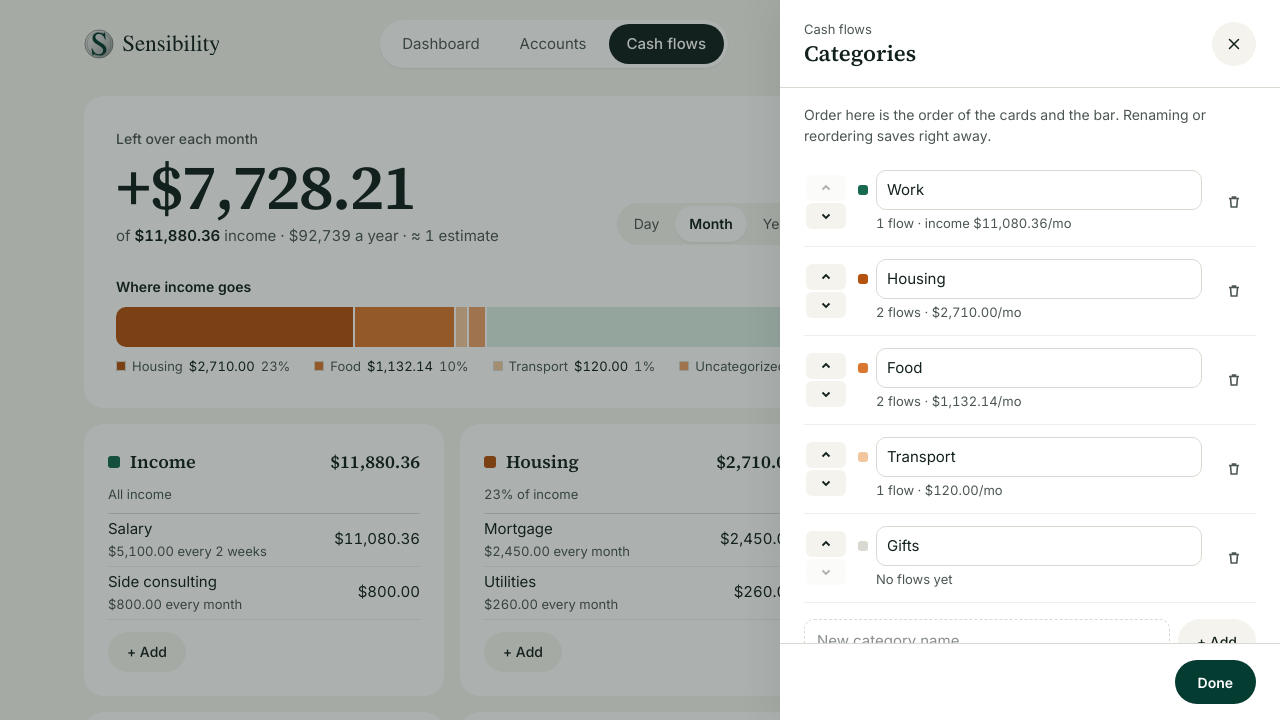
the categories drawer › asks before deleting, in the row
The image size is (1280, 720).
Expected: the dialog "Categories" is shown, top-left (780, 0), bottom-right (1279, 719)
Click the button named "Delete Food".
click(1234, 380)  # box top-left (1212, 358), bottom-right (1256, 402)
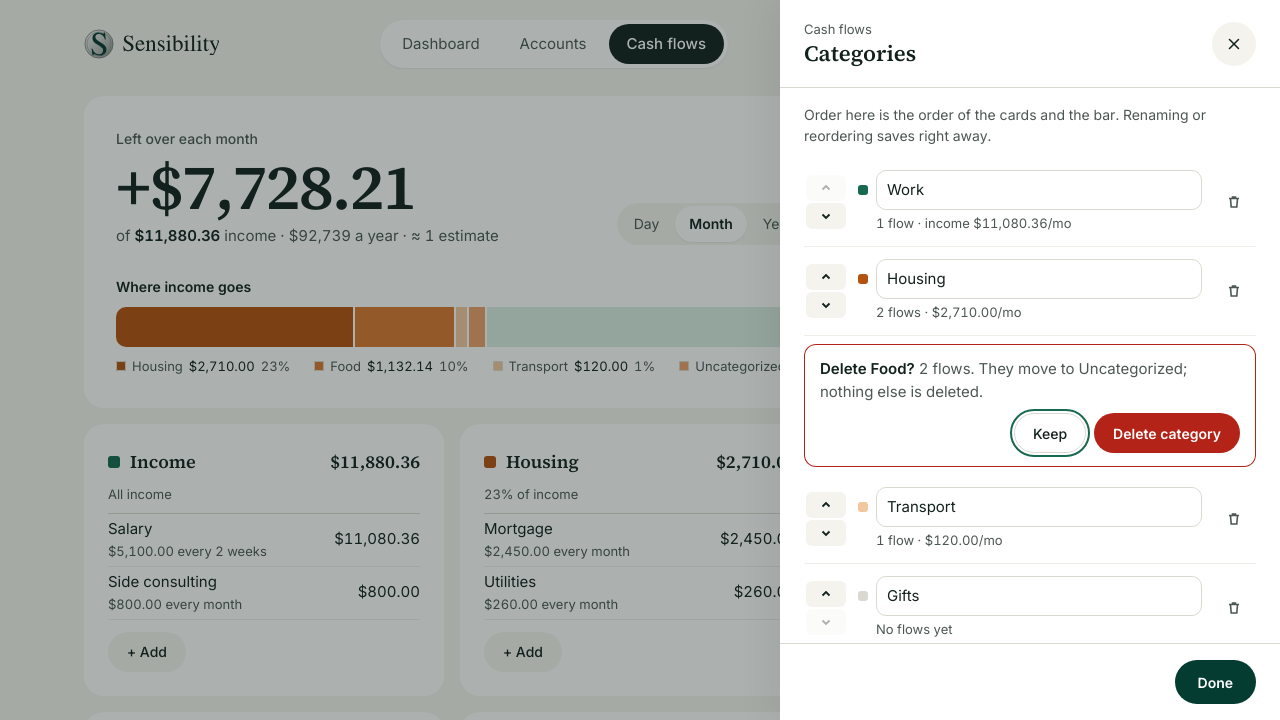
Expected: the dialog shows "Delete Food? 2 flows. They move to Uncategorized; nothing else is deleted.", top-left (780, 0), bottom-right (1279, 719)
Click the button "Keep".
click(1050, 433)  # box top-left (1014, 413), bottom-right (1086, 453)
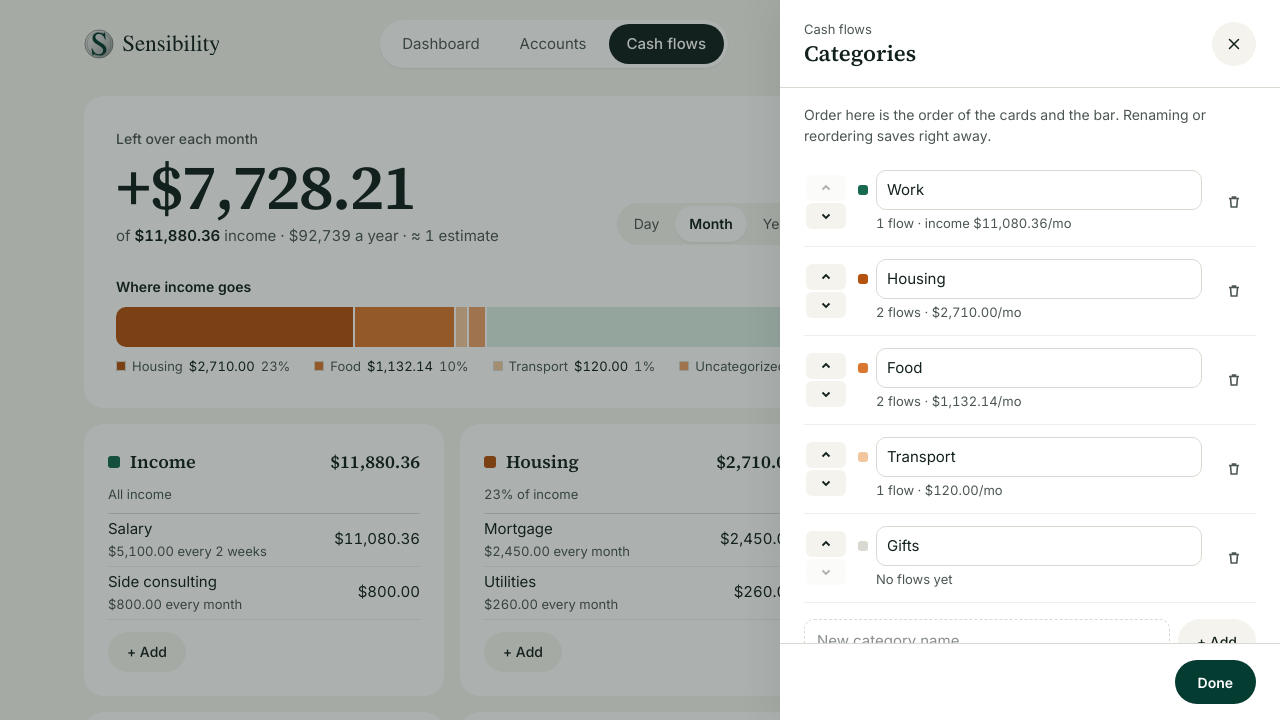
Click the button named "Delete Food".
click(1234, 380)  # box top-left (1212, 358), bottom-right (1256, 402)
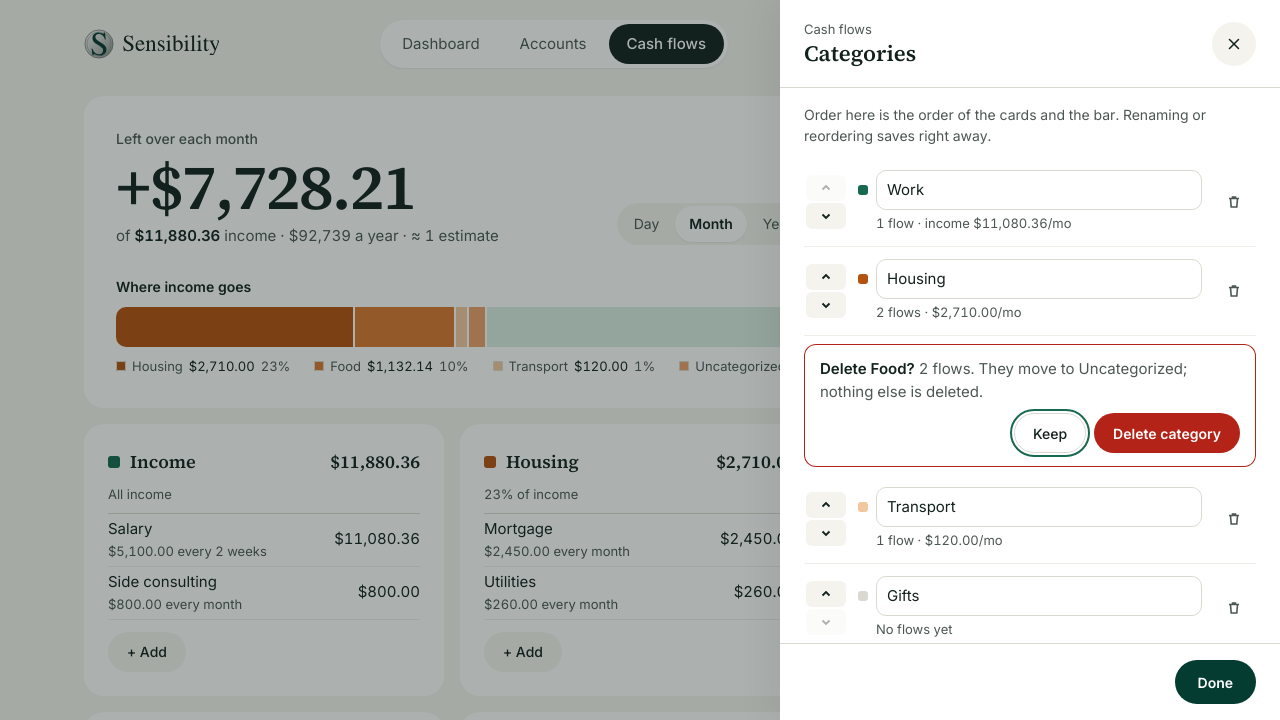
Click the button "Delete category".
click(1167, 433)  # box top-left (1094, 413), bottom-right (1240, 453)
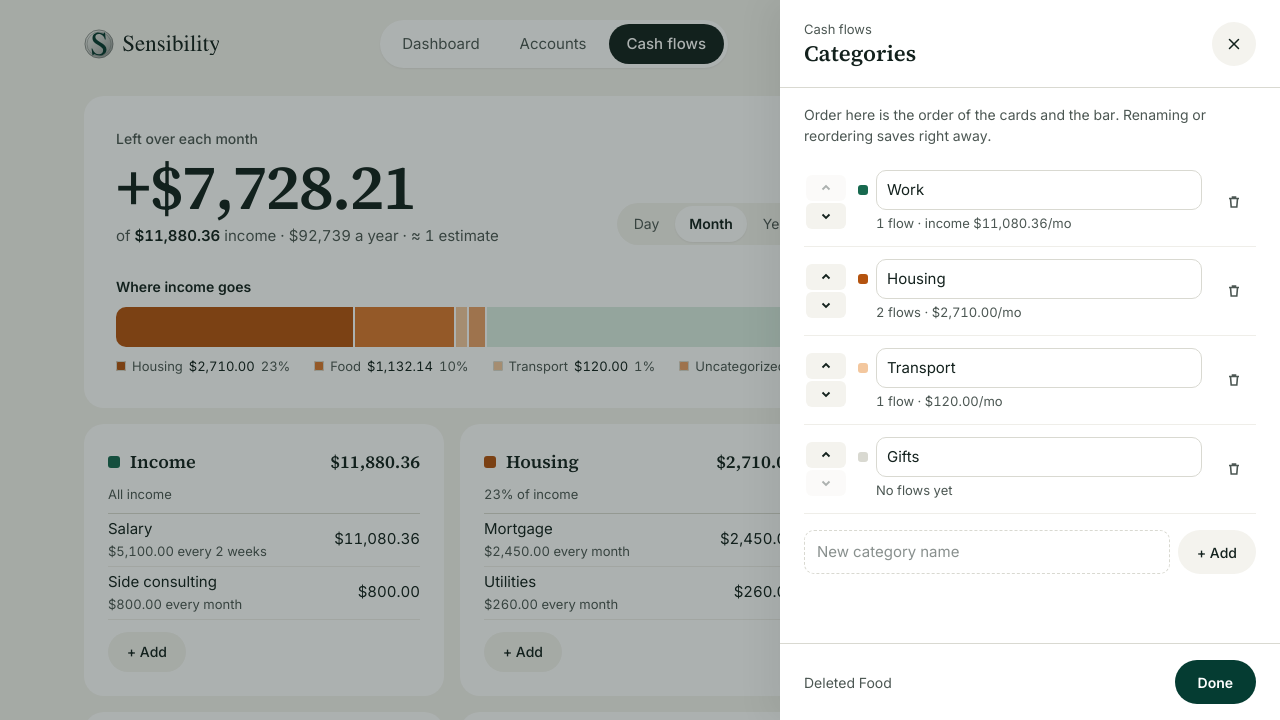
Expected: the message reads "Deleted Food", top-left (804, 674), bottom-right (892, 690)
